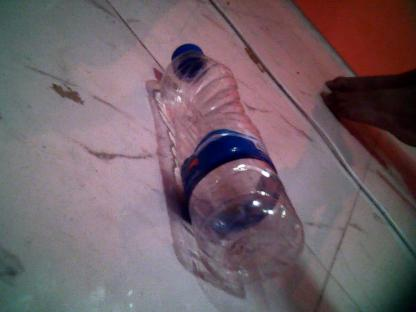Plastic Bottle: (155, 42, 307, 290)
